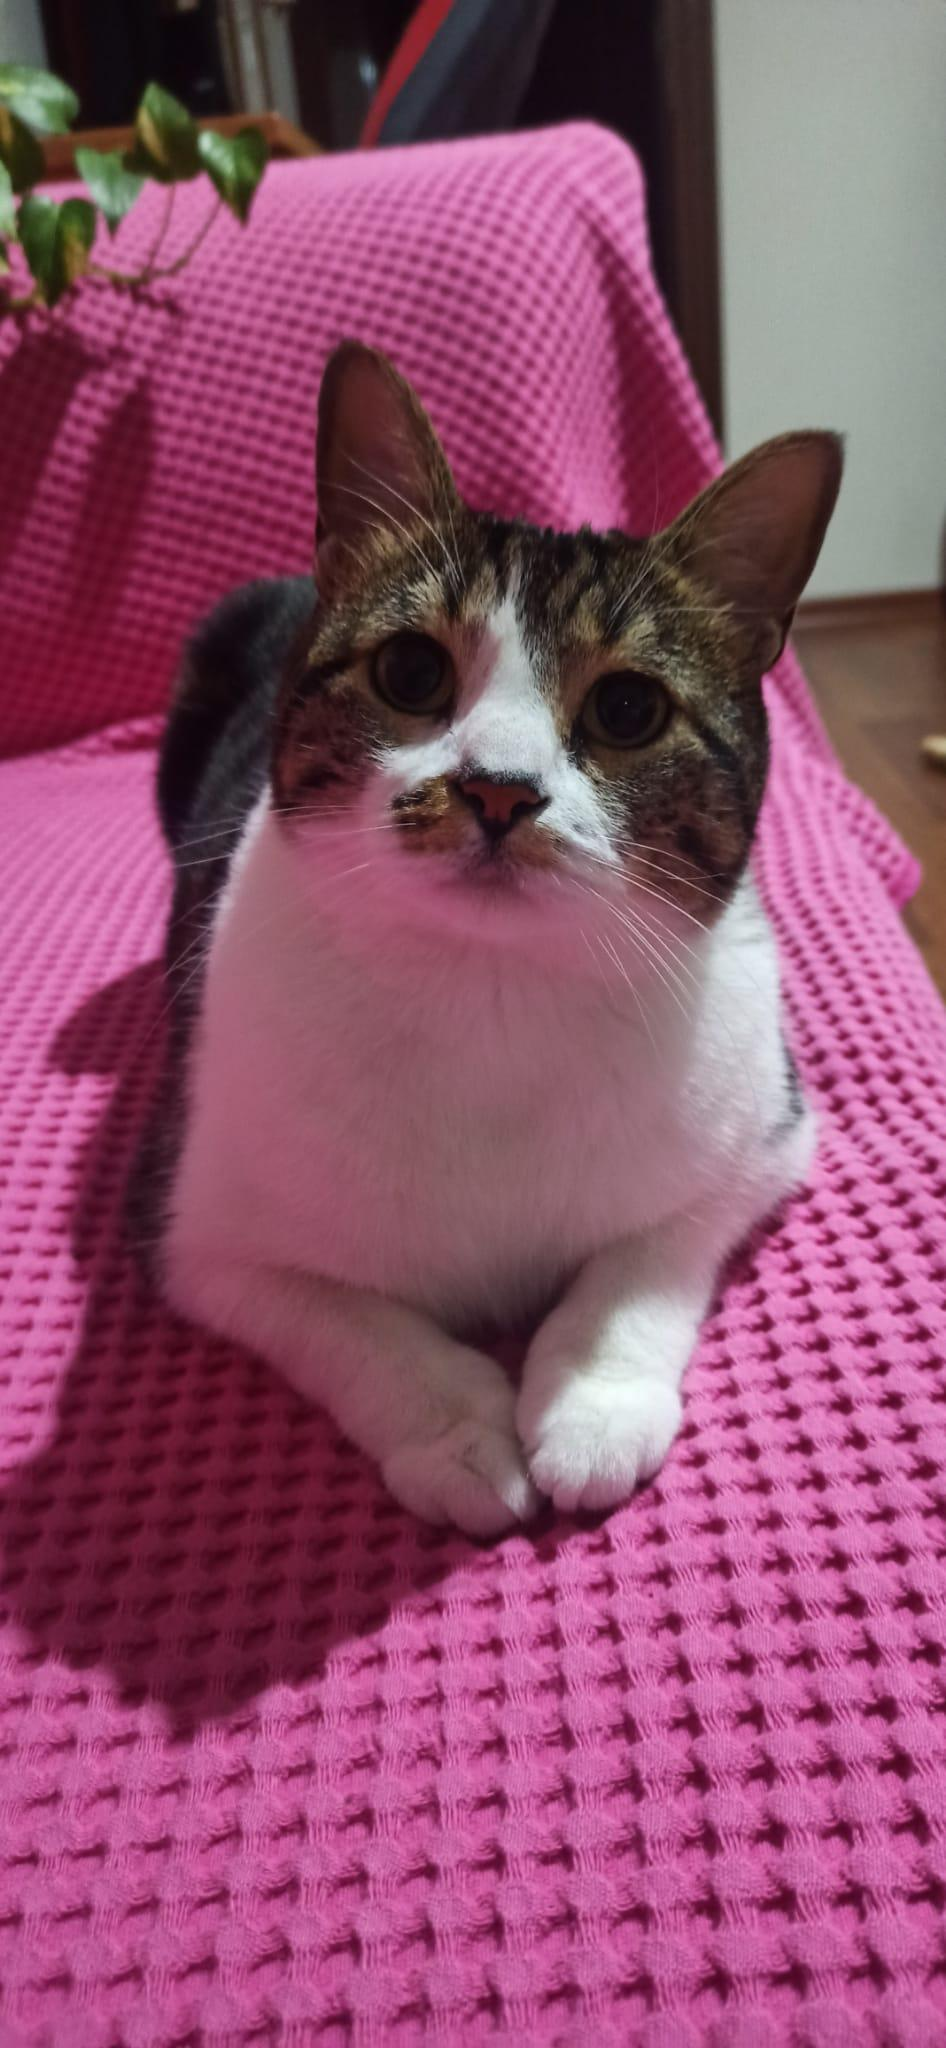kedo: (144, 328, 844, 1526)
